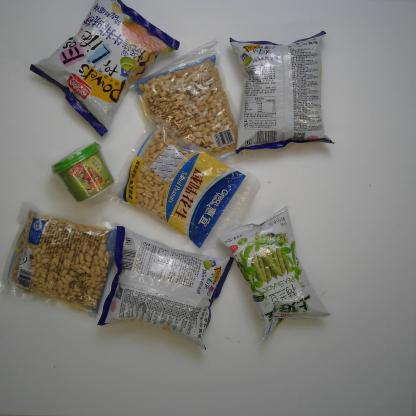Dried Fruit: (102, 118, 264, 261), (1, 199, 118, 324), (132, 35, 241, 165)
Instant Drink: (50, 138, 116, 206)
Puffed Food: (25, 0, 182, 138), (96, 223, 234, 354), (215, 203, 331, 343), (226, 29, 340, 155)
